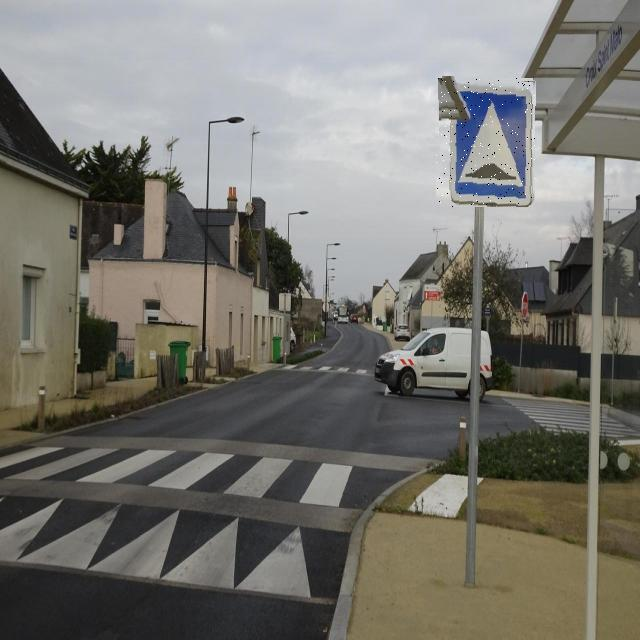hump: (436, 77, 535, 207)
